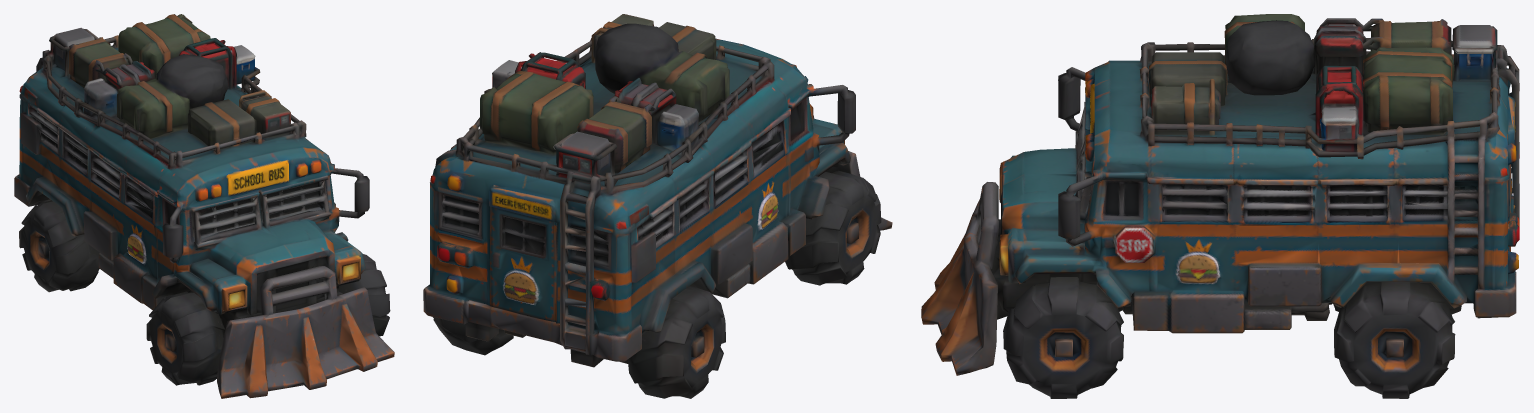
The model's file is armored_school_bus.glb.
3 views of the same model, side by side, from view 1: azimuth 30°, elevation 25°; view 2: azimuth 150°, elevation 25°; view 3: azimuth 270°, elevation 25° (orthographic). The views are drawn at different scales.
Parts seen in each view (by area): view 1: tripo_node_8022f999-5bef-4a61-8c6b-c6b2f6dd129d; view 2: tripo_node_8022f999-5bef-4a61-8c6b-c6b2f6dd129d; view 3: tripo_node_8022f999-5bef-4a61-8c6b-c6b2f6dd129d.
Part boxes in pixels (left/top/right/bottom): tripo_node_8022f999-5bef-4a61-8c6b-c6b2f6dd129d: left=14, top=14, right=394, bottom=398; tripo_node_8022f999-5bef-4a61-8c6b-c6b2f6dd129d: left=423, top=14, right=892, bottom=398; tripo_node_8022f999-5bef-4a61-8c6b-c6b2f6dd129d: left=921, top=14, right=1519, bottom=398.
Bounding box in the file's own units: 0.5126 × 0.5554 × 0.9791.
1 material, 1 textured.
